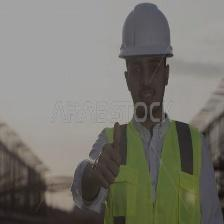Person: (71, 2, 224, 224)
helmet: (117, 3, 179, 60)
vest: (106, 119, 203, 224)
